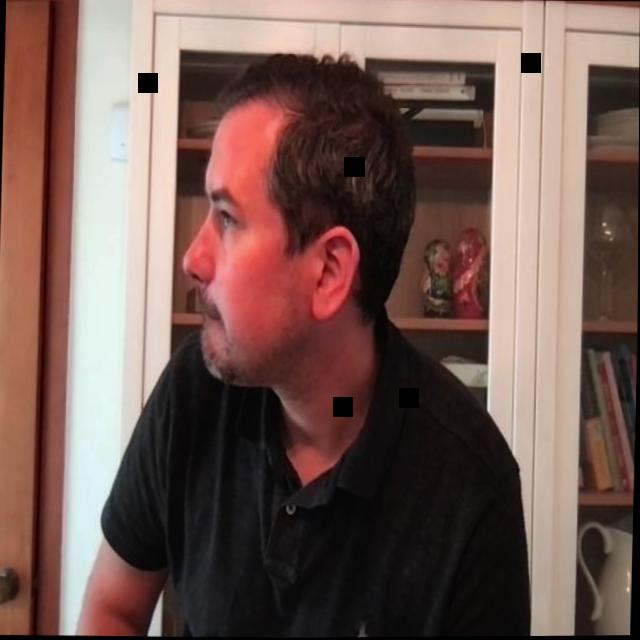NO-Mask: (185, 50, 421, 392)
